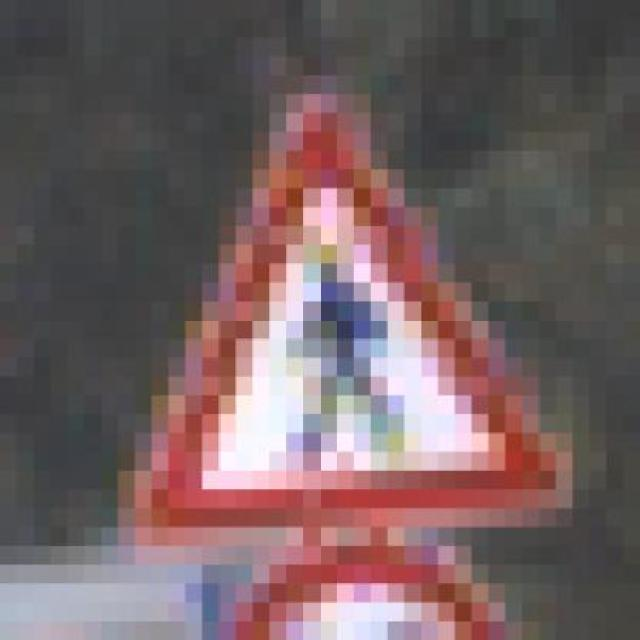Pedestrian Crossing: (114, 60, 569, 549)
